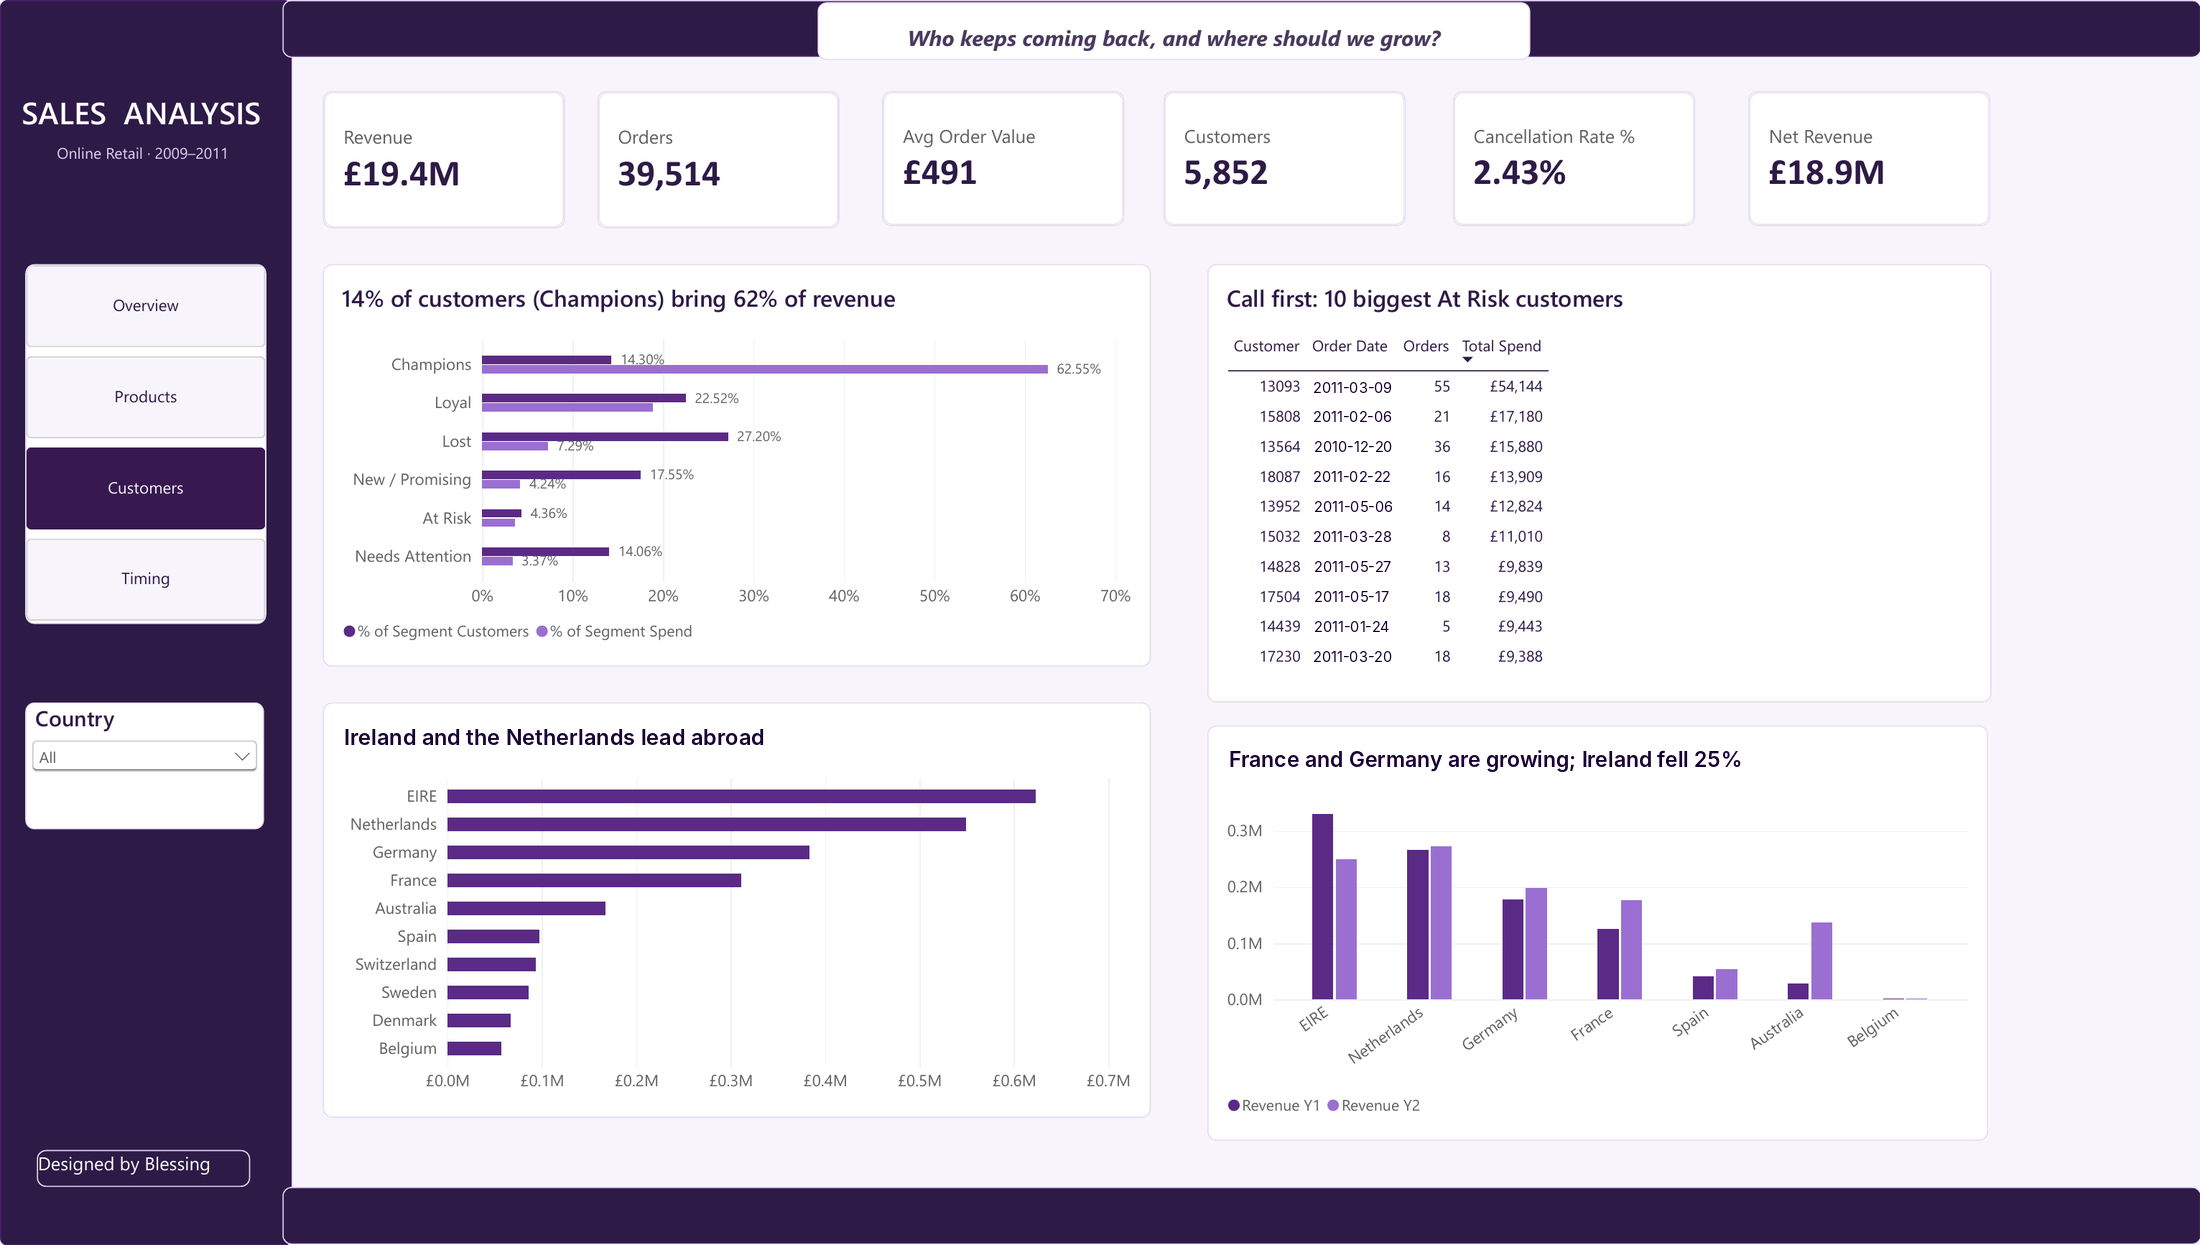

This screenshot's page, from the dashboard's own definition file:
{"tool":"powerbi","page":{"name":"Customers","canvas":[1920,1080],"ordinal":2},"visuals":[{"type":"shape","box":[10,0,255,1081.7],"z":0},{"type":"pageNavigator","box":[33.3,230,208.3,311.7],"z":1000},{"type":"textbox","box":[25,80,218.3,45],"z":2000},{"type":"textbox","box":[36.7,125,196.7,26.7],"z":3000},{"type":"cardVisual","fields":{"Data":["_Measures.Revenue"]},"box":[291.4,80,210,118.6],"z":4000},{"type":"cardVisual","fields":{"Data":["_Measures.Orders"]},"box":[528.6,80,210,118.6],"z":5000},{"type":"cardVisual","fields":{"Data":["_Measures.Avg Order Value"]},"box":[775.7,80,210,117.1],"z":6000},{"type":"cardVisual","fields":{"Data":["_Measures.Customers"]},"box":[1020,80,210,117.1],"z":7000},{"type":"cardVisual","fields":{"Data":["_Measures.Cancellation Rate %"]},"box":[1271.4,80,210,117.1],"z":8000},{"type":"cardVisual","fields":{"Data":["_Measures.Net Revenue"]},"box":[1527.1,80,210,117.1],"z":9000},{"type":"slicer","fields":{"Values":["Sales.country"]},"box":[32.9,610,207.1,110],"z":10000},{"type":"shape","box":[255.7,1.4,1664.3,50],"z":11000},{"type":"shape","box":[255.7,1030,1664.3,50],"z":12000},{"type":"clusteredBarChart","title":"14% of customers (Champions) bring 62% of revenue","fields":{"Category":["Customers.segment"],"Y":["_Measures.% of Segment Customers","_Measures.% of Segment Spend"]},"box":[291.4,230,717.1,348.6],"z":13000},{"type":"tableEx","title":"Call first: 10 biggest At Risk customers","fields":{"Values":["Customers.customer_id","Customers.order_date","Sum(Customers.orders)","Sum(Customers.total_spend)"]},"box":[1057.5,230,680,380],"z":14000},{"type":"clusteredBarChart","title":"Ireland and the Netherlands lead abroad, from very few account","fields":{"Category":["Sales.country"],"Y":["_Measures.Revenue"]},"box":[291.4,610,717.1,360],"z":15000},{"type":"clusteredColumnChart","fields":{"Category":["Sales.country"],"Y":["_Measures.Revenue Y1","_Measures.Revenue Y2"]},"box":[1057.5,630,677.5,360],"z":16000},{"type":"textbox","box":[42.5,997.5,185,32.5],"z":17000},{"type":"textbox","box":[720,2.5,617.5,50],"z":18000}]}

Visuals, with their boxes in screenshot pixels (x1, y1, x2, y2), scaled from the page's 1920x1080 canvas onto the 2200x1245 screenshot:
shape: (11,0,304,1244)
pageNavigator: (38,265,277,624)
textbox: (29,92,279,144)
textbox: (42,144,267,175)
cardVisual - _Measures.Revenue: (334,92,575,229)
cardVisual - _Measures.Orders: (606,92,846,229)
cardVisual - _Measures.Avg Order Value: (889,92,1129,227)
cardVisual - _Measures.Customers: (1169,92,1409,227)
cardVisual - _Measures.Cancellation Rate %: (1457,92,1697,227)
cardVisual - _Measures.Net Revenue: (1750,92,1990,227)
slicer - Sales.country: (38,703,275,830)
shape: (293,2,2199,59)
shape: (293,1187,2199,1244)
"14% of customers (Champions) bring 62% of revenue" clusteredBarChart: (334,265,1156,667)
"Call first: 10 biggest At Risk customers" tableEx: (1212,265,1991,703)
"Ireland and the Netherlands lead abroad, from very few account" clusteredBarChart: (334,703,1156,1118)
clusteredColumnChart - Sales.country x _Measures.Revenue Y1: (1212,726,1988,1141)
textbox: (49,1150,261,1187)
textbox: (825,3,1533,61)
